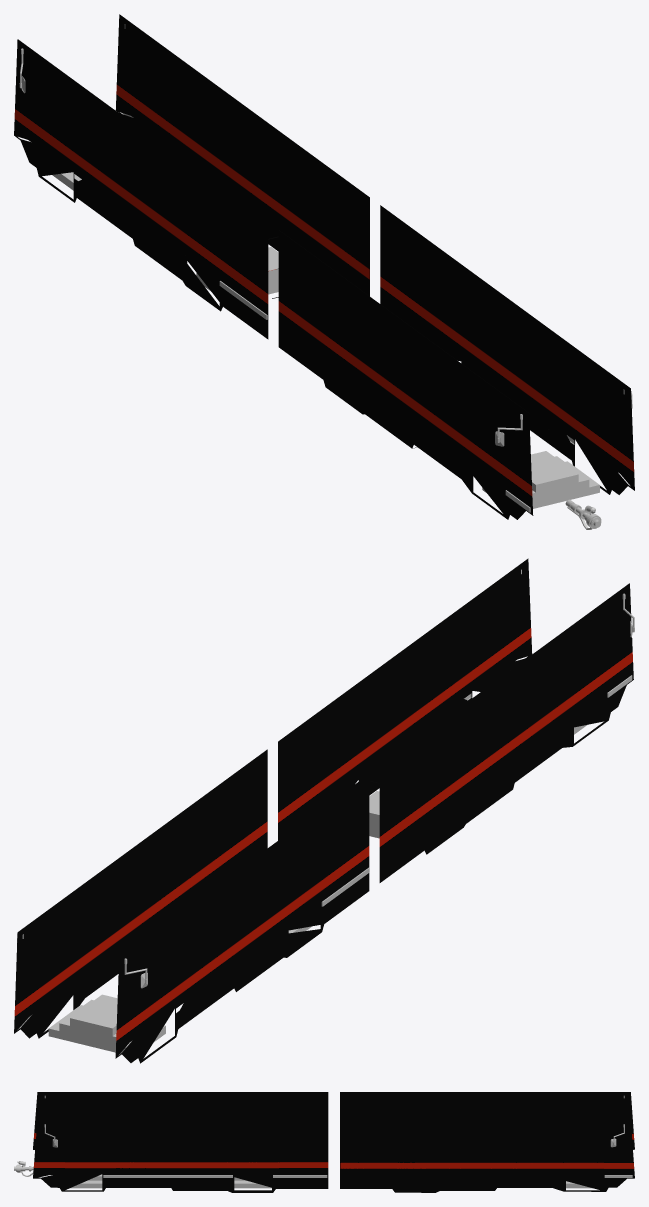
Rendered from Train Cart.obj.
3 renders of one model, top to bottom at view 1: azimuth 30°, elevation 25°; view 2: azimuth 150°, elevation 25°; view 3: azimuth 270°, elevation 25°, orthographic. The views are drawn at different scales.
Visible parts, largest first — view 1: Cart_Body, Cube.003; view 2: Cart_Body, Cube.005; view 3: Cart_Body, Cube.003, Cube.002.
Boxes of the visible parts, x1=… form: Cart_Body: x1=14, y1=14, x2=634, y2=519; Cube.003: x1=482, y1=451, x2=599, y2=508; Cart_Body: x1=14, y1=558, x2=633, y2=1063; Cube.005: x1=48, y1=994, x2=165, y2=1053; Cart_Body: x1=33, y1=1092, x2=634, y2=1192; Cube.003: x1=70, y1=1174, x2=102, y2=1188; Cube.002: x1=234, y1=1177, x2=271, y2=1188.
Bounding box in the file's own units: 1.36 × 1.19 × 9.26.
